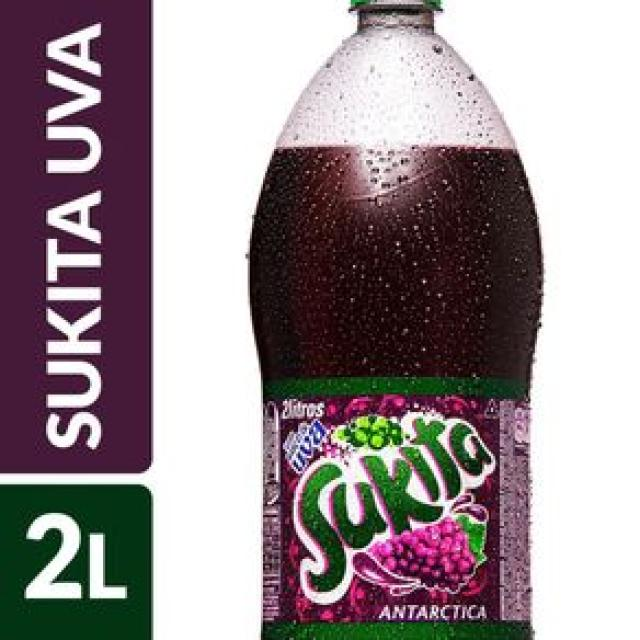label: (263, 380, 530, 640)
neck: (250, 0, 542, 383)
